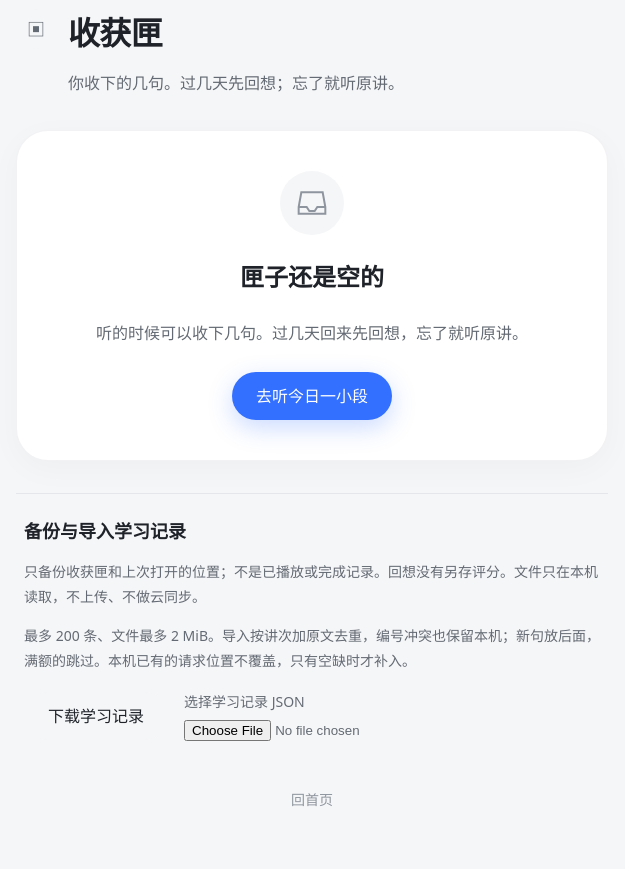
a blocked repeat download clears the old success notice and preserves local records
Click the button "下载学习记录": (96, 716) [24, 692, 168, 740]
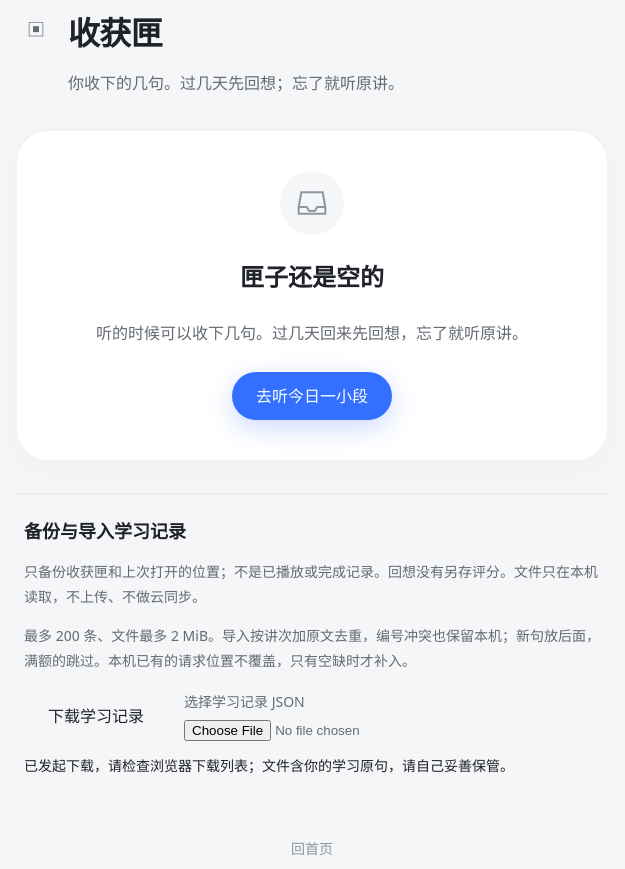
Result: the message "已发起下载，请检查浏览器下载列表；文件含你的学习原句，请自己妥善保管。" is shown at [24, 755, 600, 776]
Click the button "下载学习记录": (96, 716) [24, 692, 168, 740]
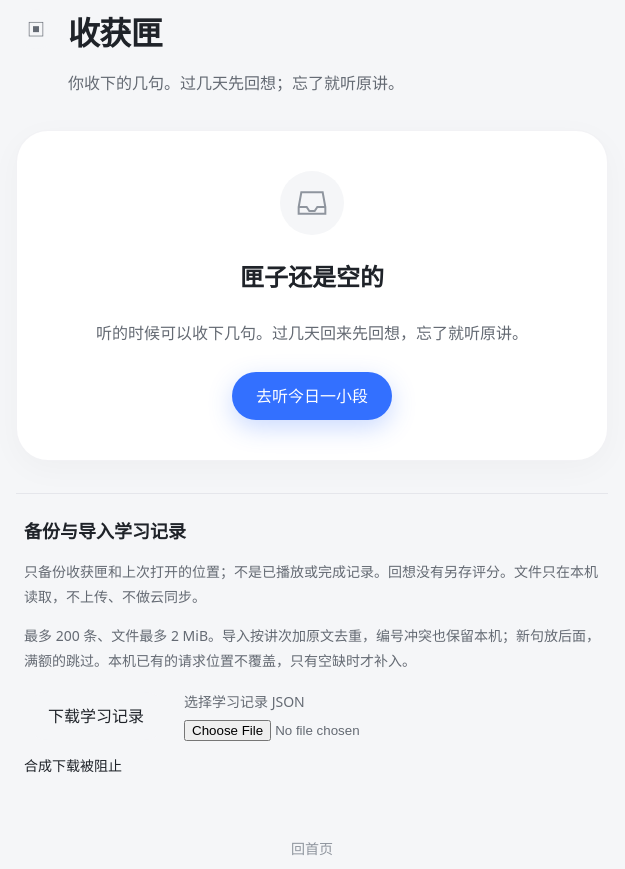
Result: the message "合成下载被阻止" is shown at [24, 756, 122, 775]
